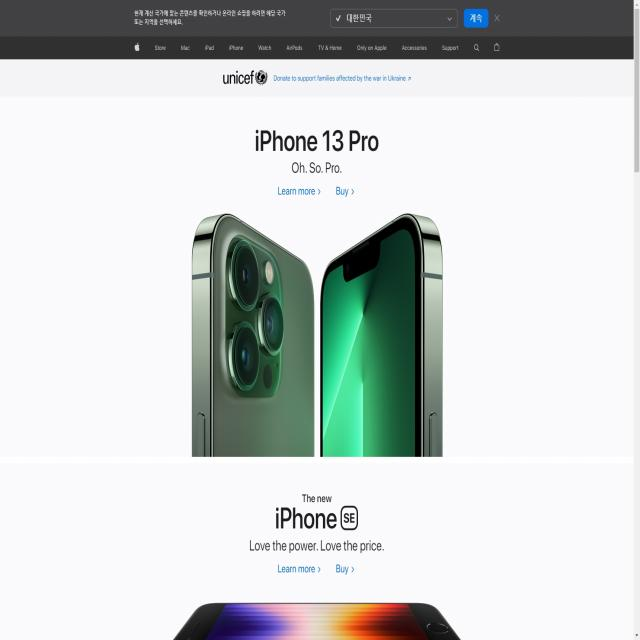menu-bar: (126, 36, 505, 60)
